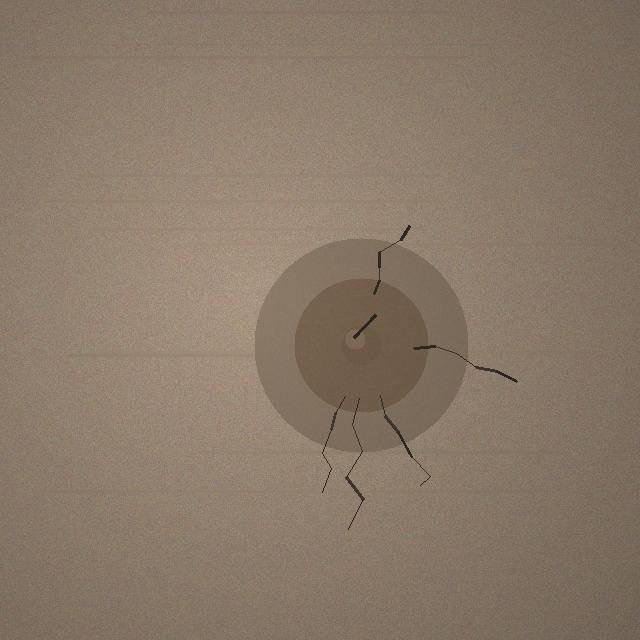crack: (254, 238, 468, 452)
